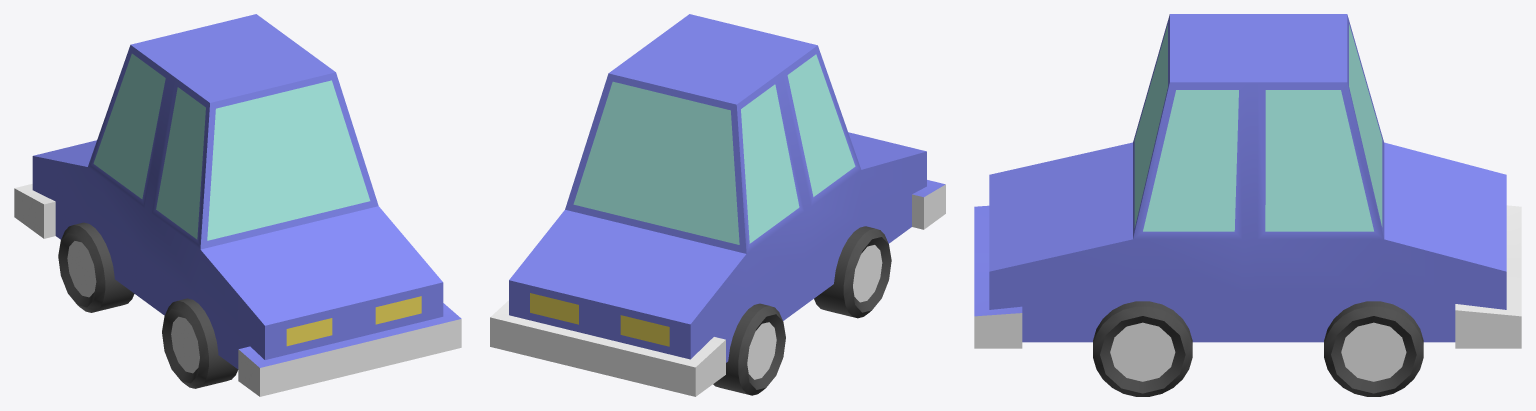
Rendered from basic car blue.fbx.
3 renders of one model, left to right at view 1: azimuth 30°, elevation 25°; view 2: azimuth 150°, elevation 25°; view 3: azimuth 270°, elevation 25°, orthographic. The views are drawn at different scales.
Visible parts, largest first — view 1: body, pCylinder10, pCylinder9; view 2: body, pCylinder9, pCylinder10; view 3: body, pCylinder7, pCylinder8.
Part boxes in pixels (<box>): body: <box>14,14,461,396</box>; pCylinder10: <box>58,222,134,312</box>; pCylinder9: <box>162,298,237,388</box>; body: <box>490,14,945,396</box>; pCylinder9: <box>814,226,891,318</box>; pCylinder10: <box>713,303,785,395</box>; body: <box>974,14,1521,348</box>; pCylinder7: <box>1093,301,1192,396</box>; pCylinder8: <box>1324,301,1423,396</box>.
Size of the model in its own units: 40.85 by 49.54 by 83.34.
1 material, 1 textured.
